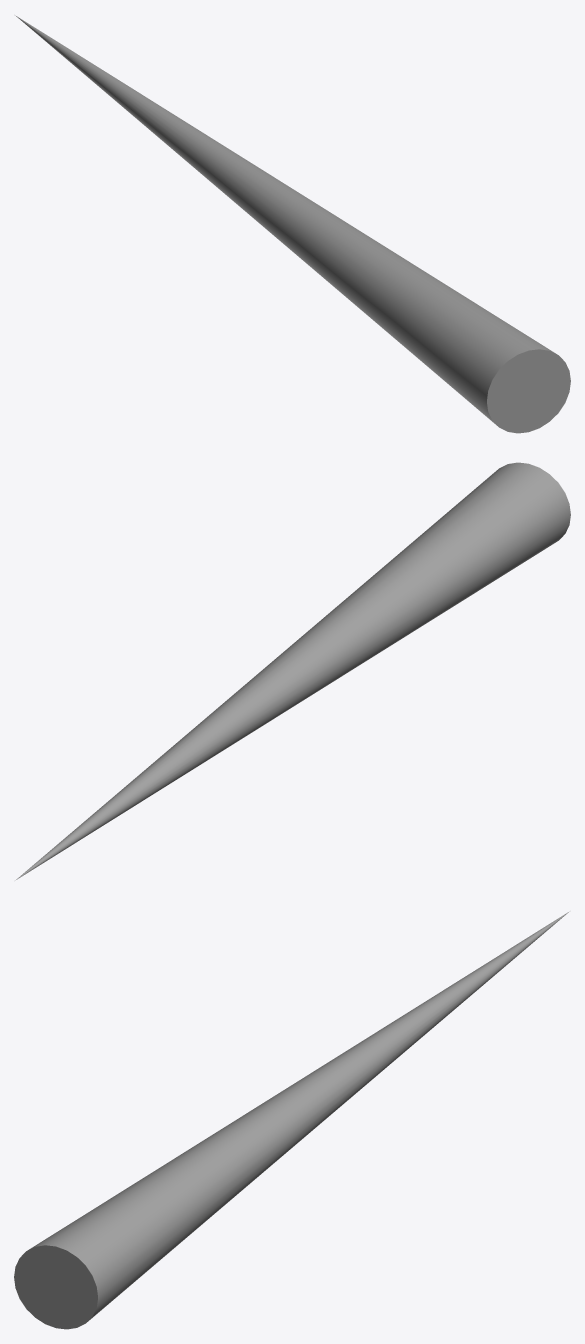
File: NormalShipAttachment.FBX
3 renders of one model, top to bottom at view 1: azimuth 30°, elevation 25°; view 2: azimuth 150°, elevation 25°; view 3: azimuth 330°, elevation 25°, orthographic.
Parts seen in each view (by area): view 1: Cone004; view 2: Cone004; view 3: Cone004.
Boxes of the visible parts, x1,y1,x2,y2 form: Cone004: [15, 15, 570, 433]; Cone004: [15, 462, 570, 880]; Cone004: [14, 911, 569, 1329].
Size of the model in its own units: 12.56 by 11.65 by 133.
Materials: 1 (1 with a texture image).
